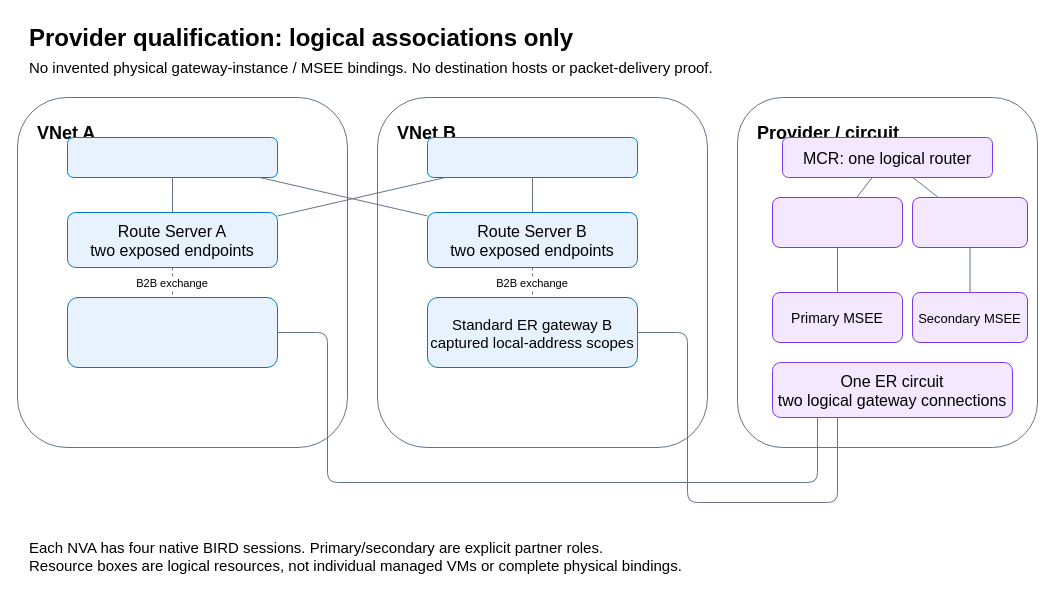
Image size: 1055x614. Some labels were removed from this diagram. Here are the shapes that lost their labels. From the top down, the centre of each, then its label:
the point at 172,157: NVA A: one speaker
the point at 532,157: NVA B: one speaker
the point at 837,222: Primary VXC
the point at 970,222: Secondary VXC
the point at 172,332: Standard ER gateway A captured local-address scopes
